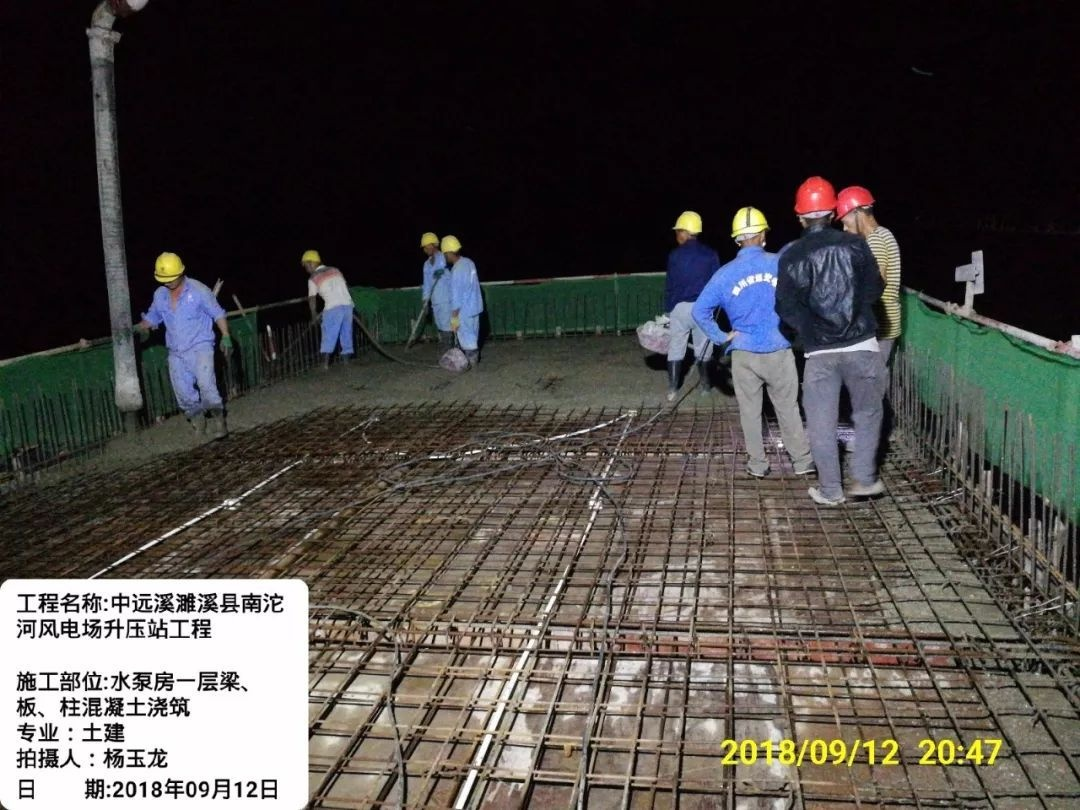red: (796, 174, 834, 229), (835, 184, 875, 234)
yellow: (732, 205, 766, 246), (152, 251, 186, 292), (672, 206, 704, 244), (437, 231, 462, 260), (299, 248, 323, 273), (418, 230, 439, 255)
